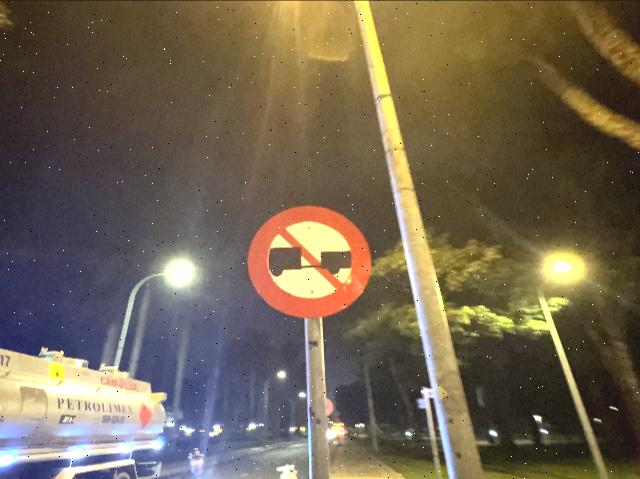cam-xe-somi-romooc: (247, 207, 372, 318)
